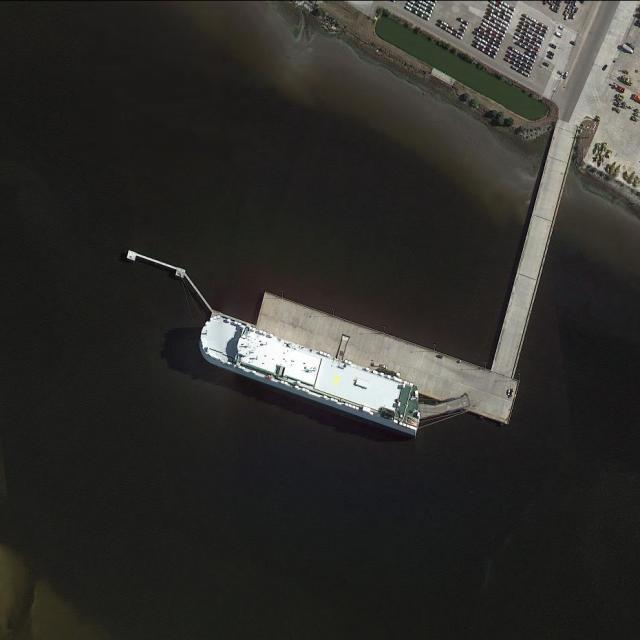Dock: (244, 289, 522, 424)
RoRo: (192, 307, 436, 438)
